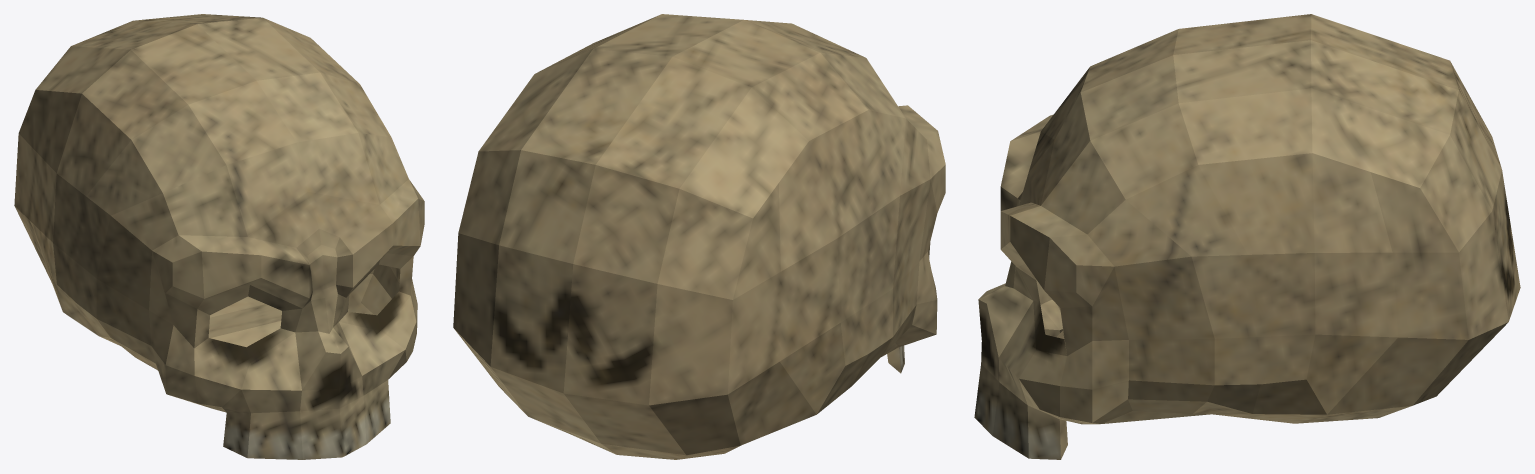
The model's file is Skull.FBX.
The picture shows the model from 3 angles, left to right: view 1: azimuth 30°, elevation 25°; view 2: azimuth 150°, elevation 25°; view 3: azimuth 270°, elevation 25°; orthographic projection. The views are drawn at different scales.
Parts seen in each view (by area): view 1: Skull_01; view 2: Skull_01; view 3: Skull_01.
Part boxes in pixels (x1,y1,x2,y2): Skull_01: (14, 14, 424, 459); Skull_01: (453, 14, 945, 459); Skull_01: (974, 14, 1520, 459).
Bounding box in the file's own units: 6.89 × 7.59 × 9.93.
